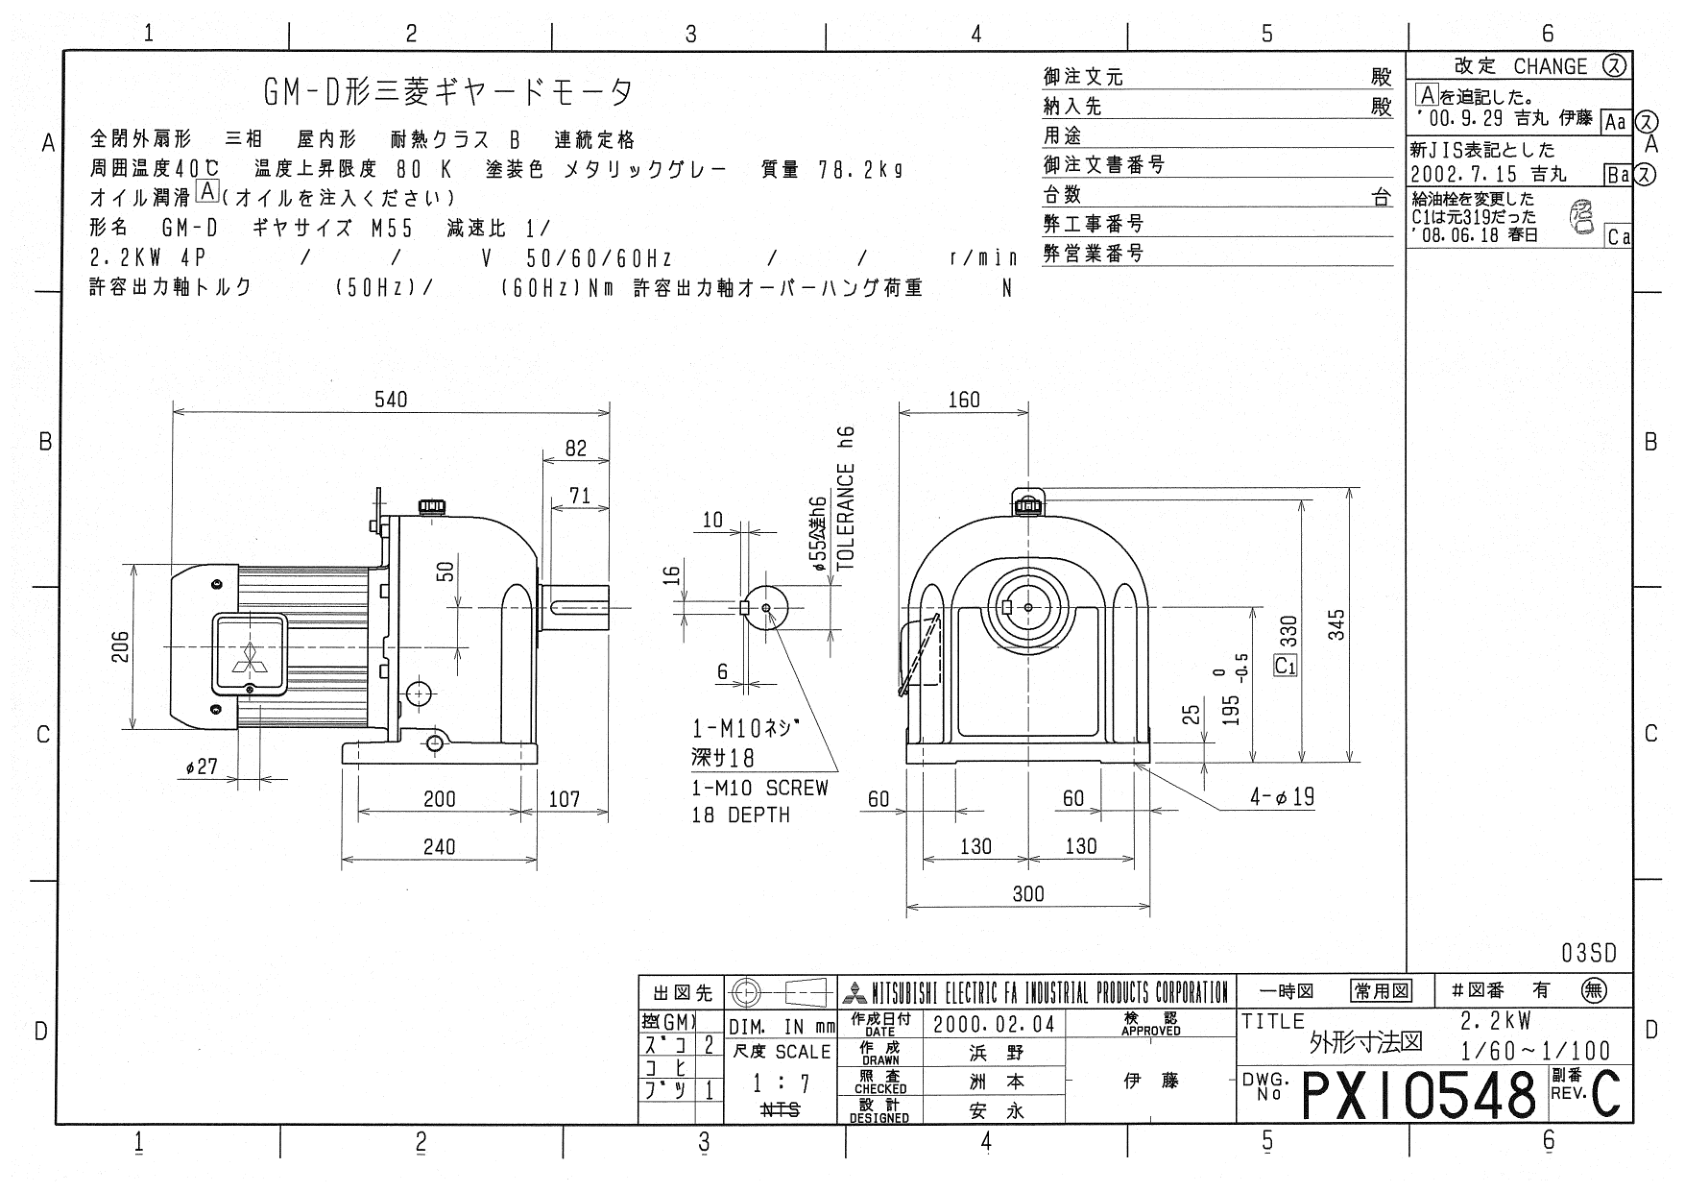GM_D_屋内＿三相_脚: (1, 1, 1664, 1169)
